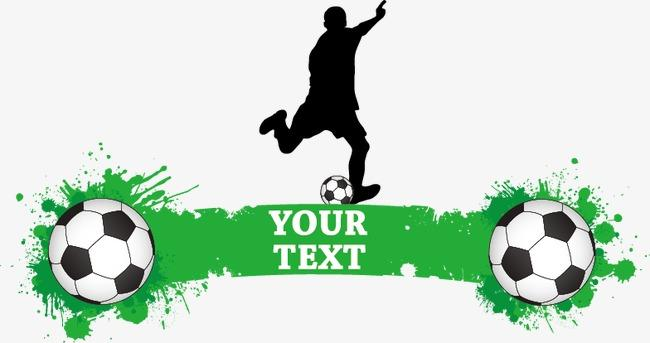football: (483, 195, 598, 310), (50, 199, 157, 305), (314, 174, 358, 207)
